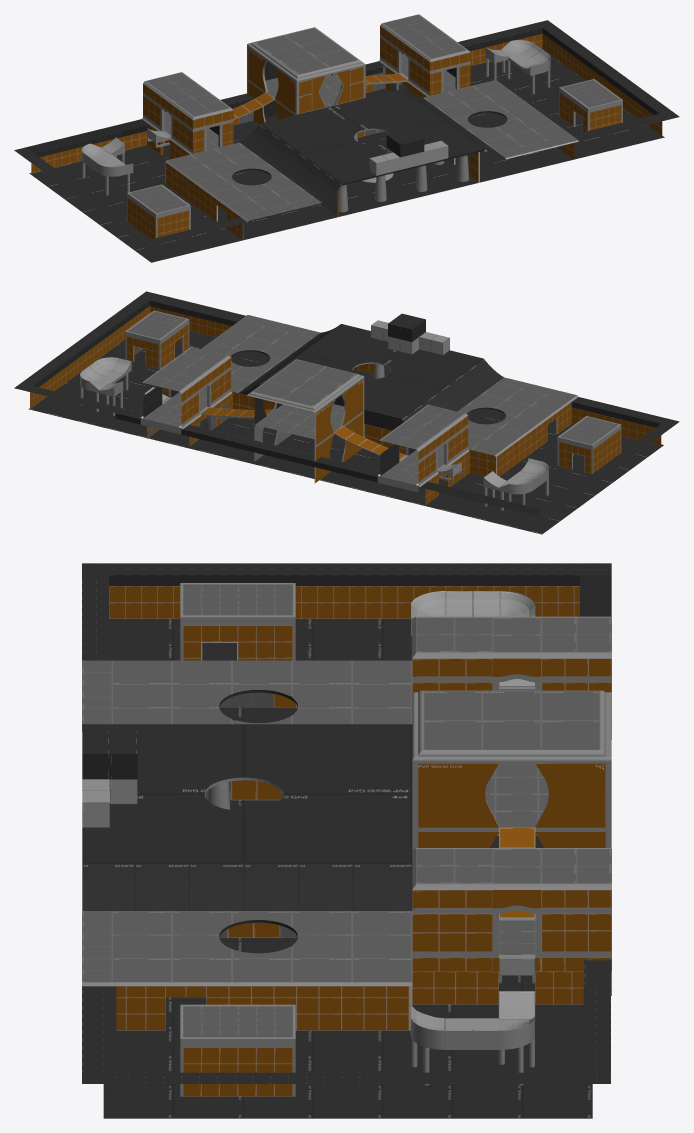
The model's file is quake_style_map_grid.gltf.
The picture shows the model from 3 angles, top to bottom: view 1: azimuth 30°, elevation 25°; view 2: azimuth 150°, elevation 25°; view 3: azimuth 270°, elevation 25°; orthographic projection. The views are drawn at different scales.
Visible parts, largest first — view 1: Plane, Center Platform.005, Center Platform.004, Center Platform.003, Cube.018, Cube.011, Cube.017, Cube.001, Center Platform.001, Cube.029, Cube.062, Cube.032 (+19 smaller); view 2: Plane, Center Platform.005, Center Platform.003, Cube.018, Center Platform.004, Cube.024, Cube.029, Cube.032, Cube.062, Cube.001, Cube.065, Cube.017 (+24 smaller); view 3: Plane, Center Platform.005, Center Platform.004, Center Platform.003, Cube.018, Center Platform.002, Cube.017, Cube.001, Cube.062, Cube.032, Cube.004, Cube.029 (+23 smaller).
Boxes of the visible parts, x1=… form: Plane: x1=29, y1=49, x2=664, y2=262; Center Platform.005: x1=260, y1=89, x2=484, y2=185; Center Platform.004: x1=423, y1=80, x2=578, y2=159; Center Platform.003: x1=167, y1=142, x2=321, y2=220; Cube.018: x1=247, y1=27, x2=365, y2=124; Cube.011: x1=143, y1=72, x2=233, y2=153; Cube.017: x1=380, y1=14, x2=470, y2=95; Cube.001: x1=14, y1=119, x2=157, y2=246; Center Platform.001: x1=240, y1=124, x2=342, y2=202; Cube.029: x1=127, y1=184, x2=190, y2=238; Cube.062: x1=254, y1=28, x2=358, y2=74; Cube.032: x1=559, y1=79, x2=622, y2=132; Plane: x1=28, y1=330, x2=663, y2=534; Center Platform.005: x1=258, y1=324, x2=483, y2=420; Center Platform.003: x1=458, y1=377, x2=576, y2=455; Cube.018: x1=246, y1=359, x2=364, y2=483; Center Platform.004: x1=201, y1=315, x2=320, y2=392; Cube.024: x1=115, y1=408, x2=380, y2=482; Cube.029: x1=557, y1=416, x2=621, y2=474; Cube.032: x1=125, y1=310, x2=189, y2=368; Cube.062: x1=253, y1=359, x2=356, y2=406; Cube.001: x1=420, y1=418, x2=679, y2=518; Cube.065: x1=30, y1=306, x2=231, y2=438; Cube.017: x1=142, y1=346, x2=231, y2=427; Plane: x1=103, y1=619, x2=592, y2=1118; Center Platform.005: x1=82, y1=724, x2=412, y2=863; Center Platform.004: x1=82, y1=911, x2=412, y2=982; Center Platform.003: x1=82, y1=660, x2=412, y2=731; Cube.018: x1=412, y1=690, x2=611, y2=849; Center Platform.002: x1=82, y1=863, x2=412, y2=910; Cube.017: x1=412, y1=848, x2=611, y2=971; Cube.001: x1=82, y1=563, x2=611, y2=616; Cube.062: x1=423, y1=691, x2=600, y2=749; Cube.032: x1=180, y1=1004, x2=295, y2=1096; Cube.004: x1=109, y1=586, x2=579, y2=618; Cube.029: x1=180, y1=583, x2=295, y2=660.
Size of what is drawn, in the model's own units: 405 by 53.66 by 174.
6 materials, 4 textured.
